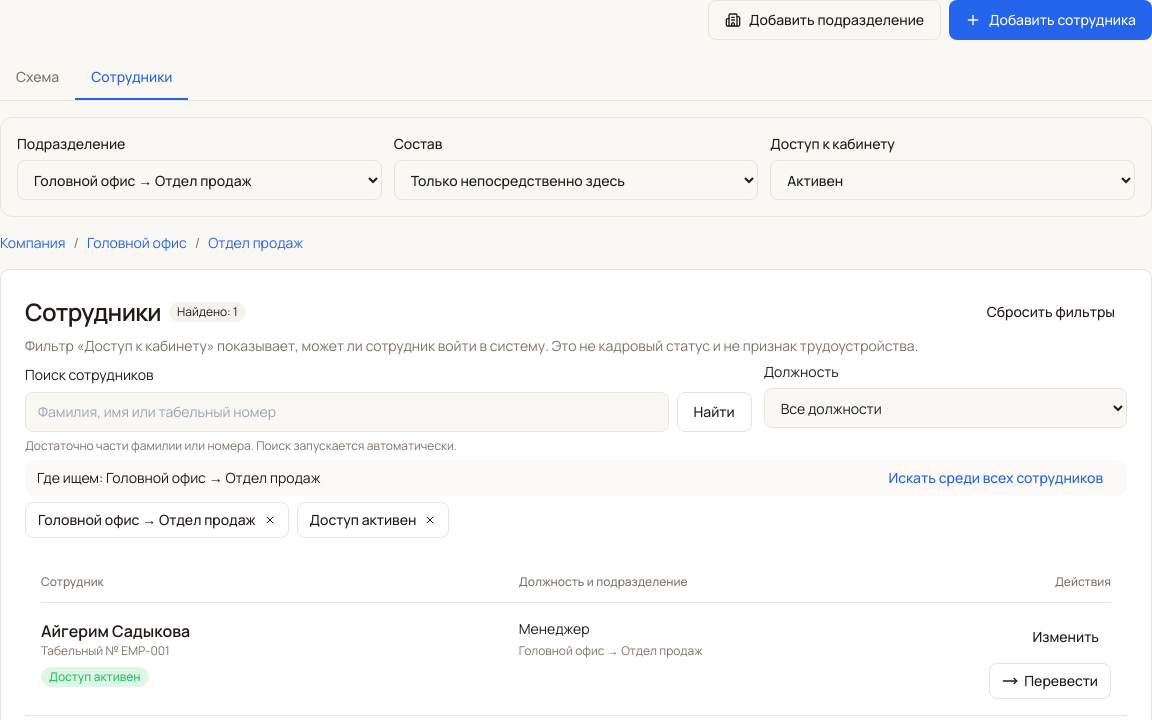
Scenario: StaffWorkspace › previews an employee transfer, confirms only the frozen plan id, and refreshes after success
Click the button "Перевести".
click(1050, 681)  # box 989,663 -> 1111,699
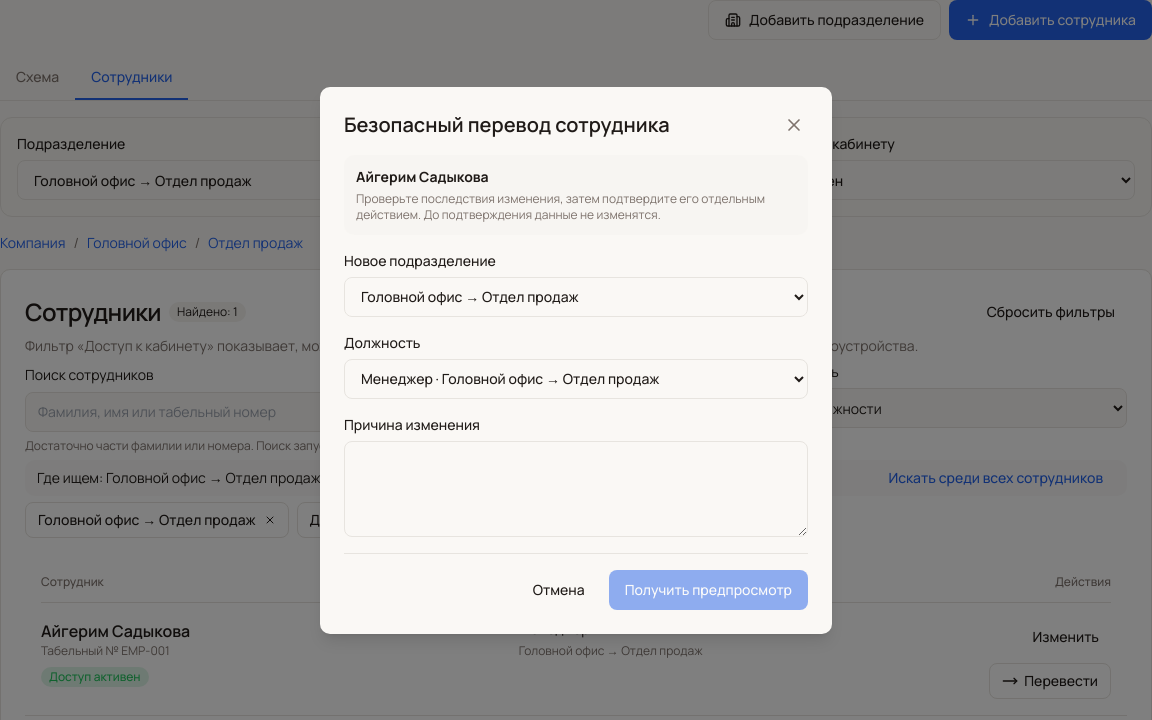
Expected: the text "Проверьте последствия изменения, затем подтвердите его отдельным действием" is shown, 356,190 -> 765,222
Select "Без явного подразделения · применяется подразделение должности" in the dropdown labelled "Новое подразделение" at (576, 296), box 344,276 -> 808,316
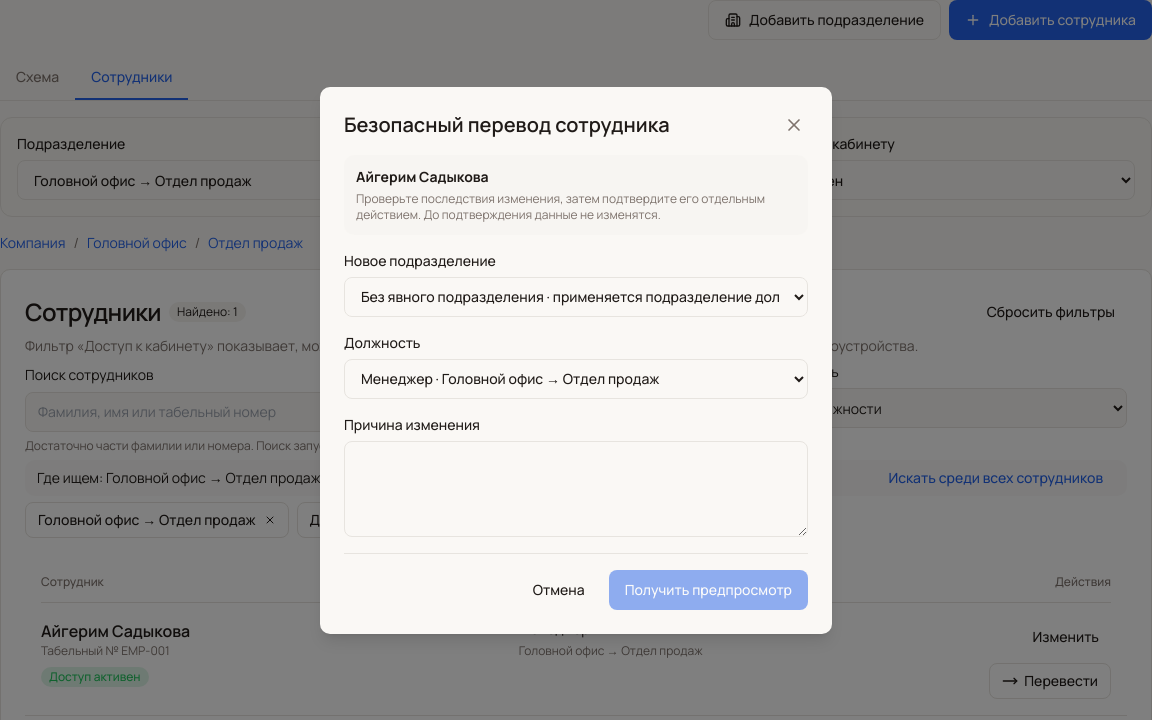
Type "Смена команды" into the text box labelled "Причина изменения".
click(576, 488); type("Смена команды")  # box 344,440 -> 808,536
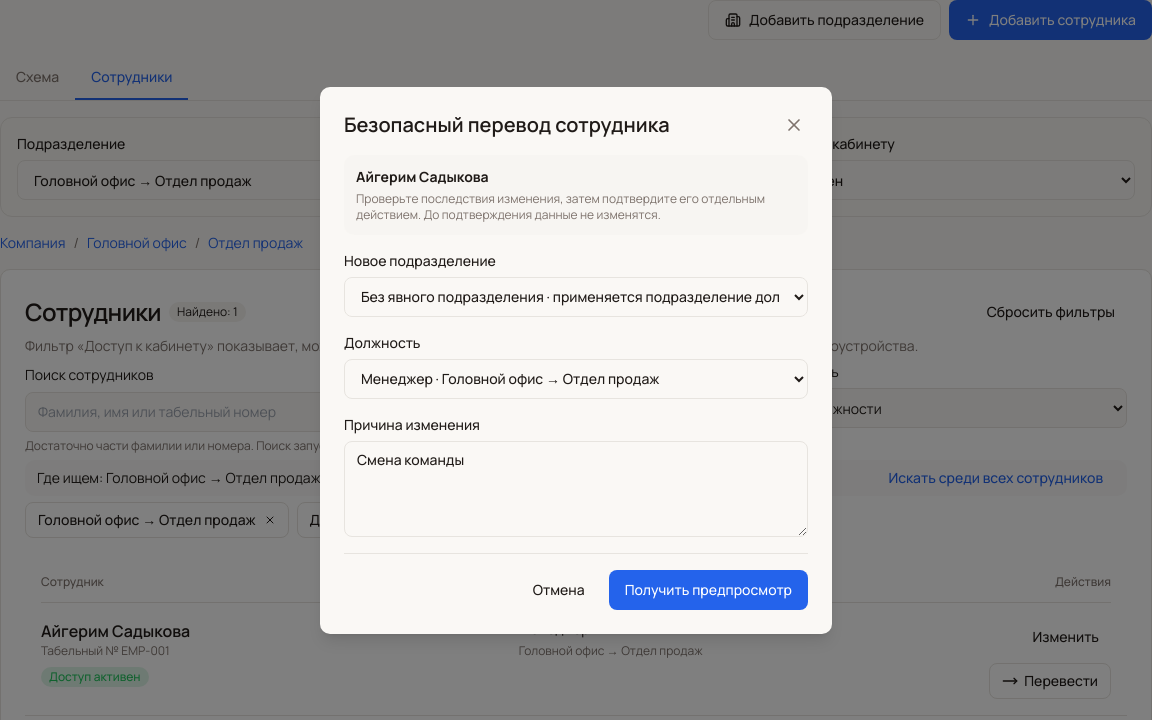
Click the button "Получить предпросмотр".
click(708, 590)  # box 609,570 -> 808,610
(page scrolled)
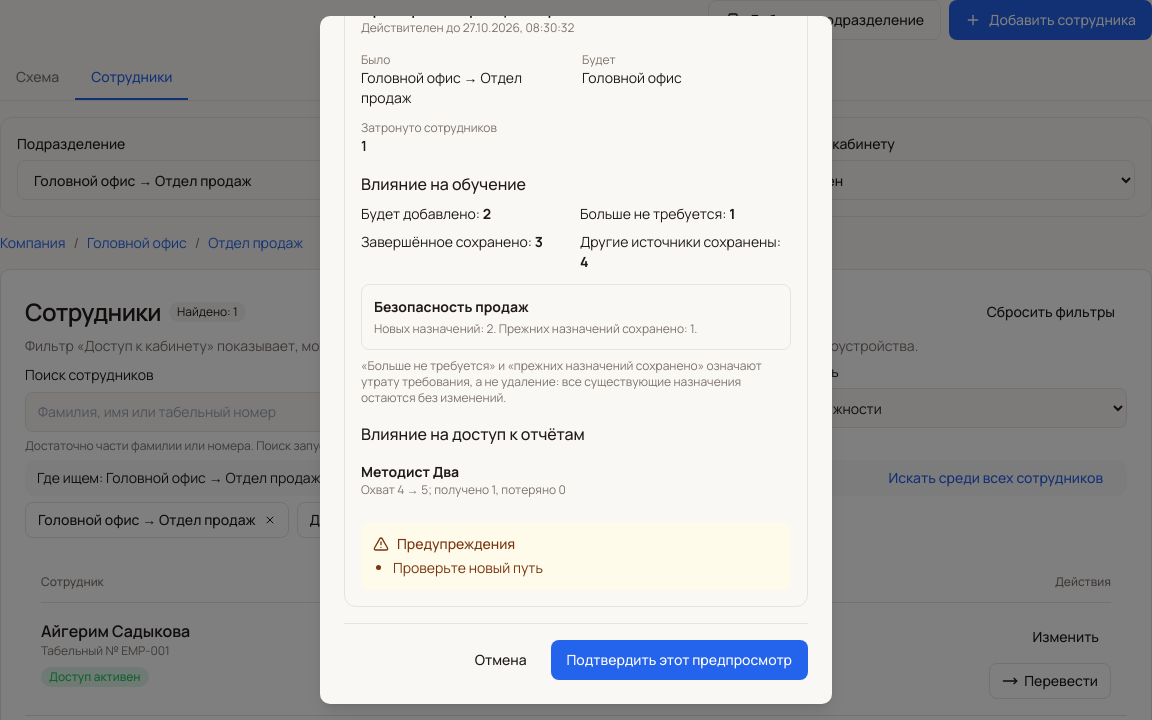
Expected: the text "Будет добавлено:" shows "2", 483,204 -> 491,223
Expected: the text "Безопасность продаж" is shown, 374,297 -> 529,316
Expected: the text "Новых назначений: 2. Прежних назначений сохранено: 1." is shown, 374,320 -> 697,337
Click the button "Подтвердить этот предпросмотр".
click(679, 660)  # box 550,640 -> 808,680
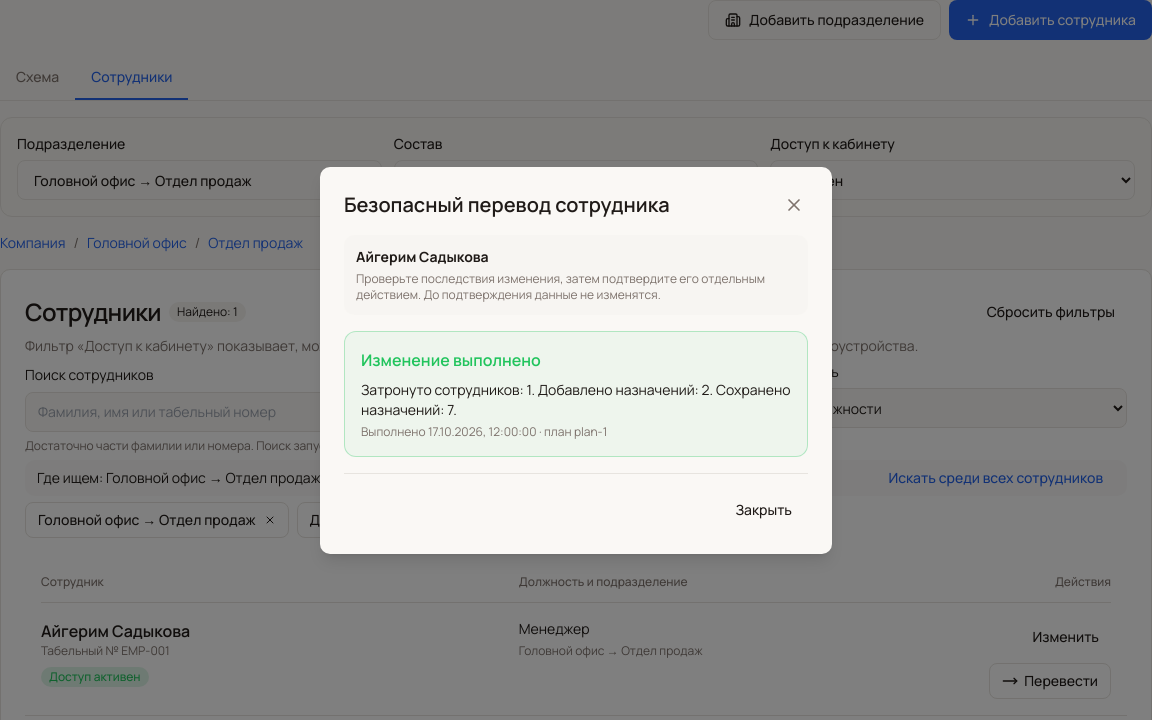
Expected: the heading "Изменение выполнено" is shown, 361,348 -> 541,370
